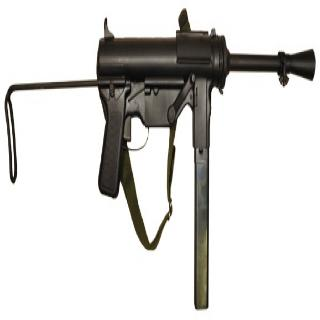gun: (5, 5, 318, 312)
